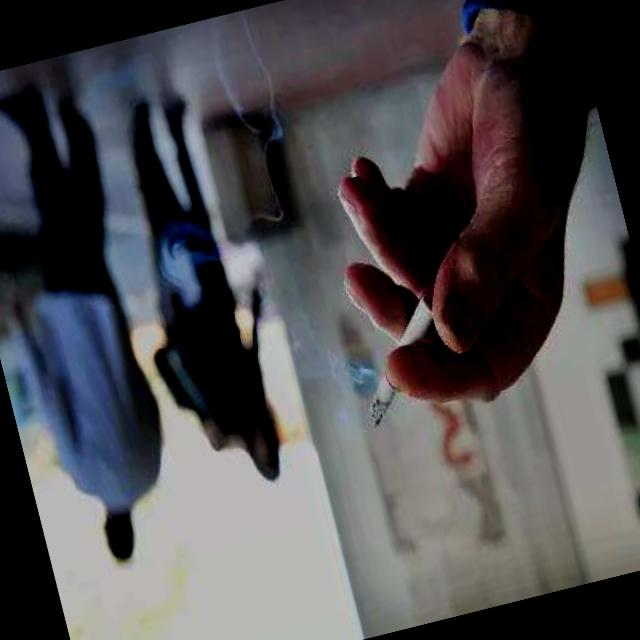cigarette: (354, 375, 404, 429)
